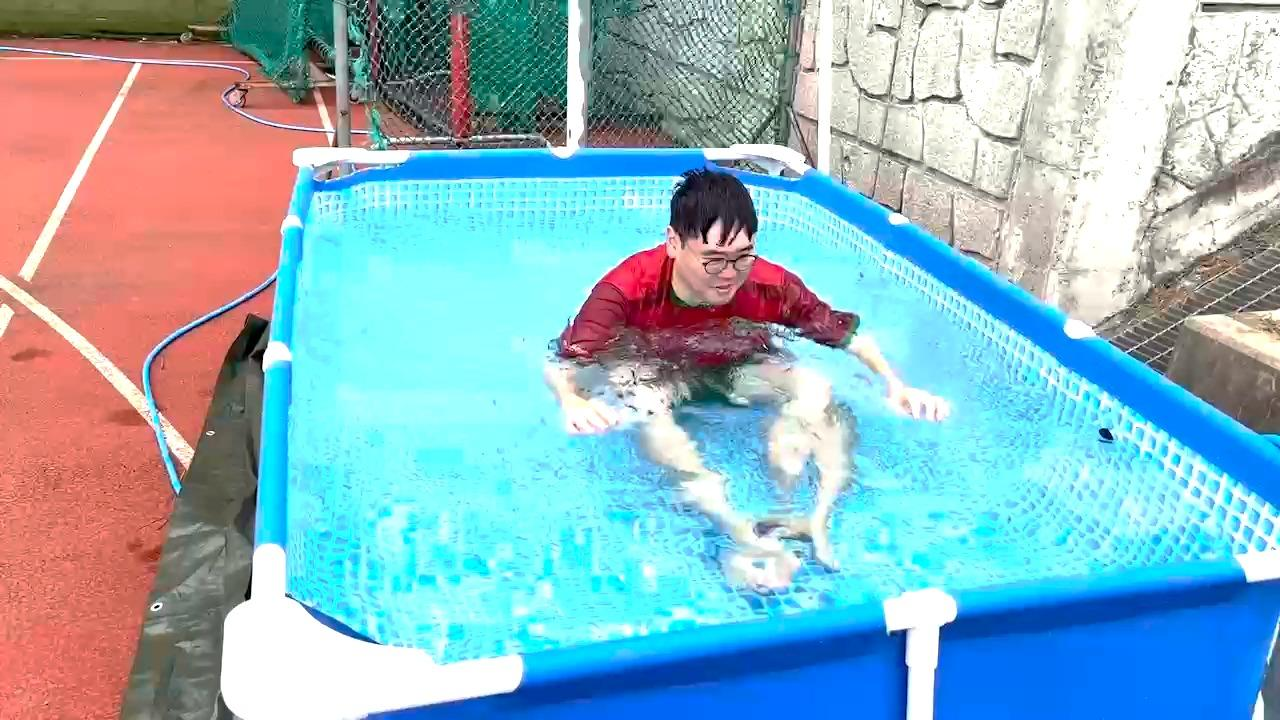Swimming: (512, 137, 968, 590)
